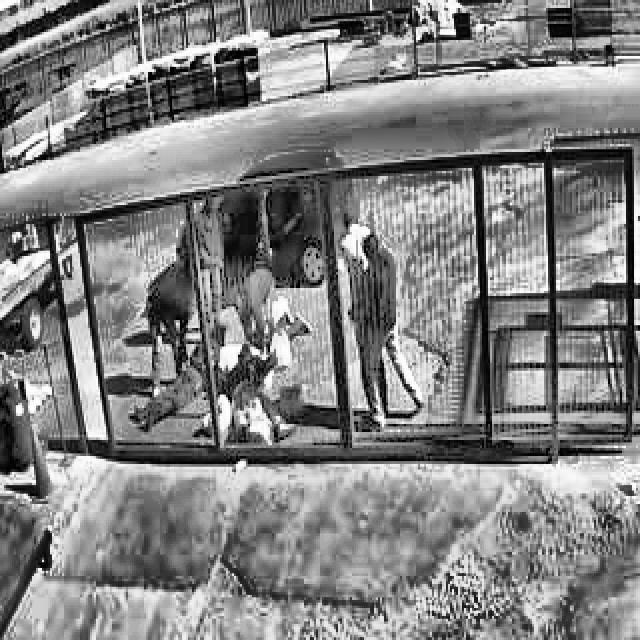robbery: (132, 185, 420, 442)
